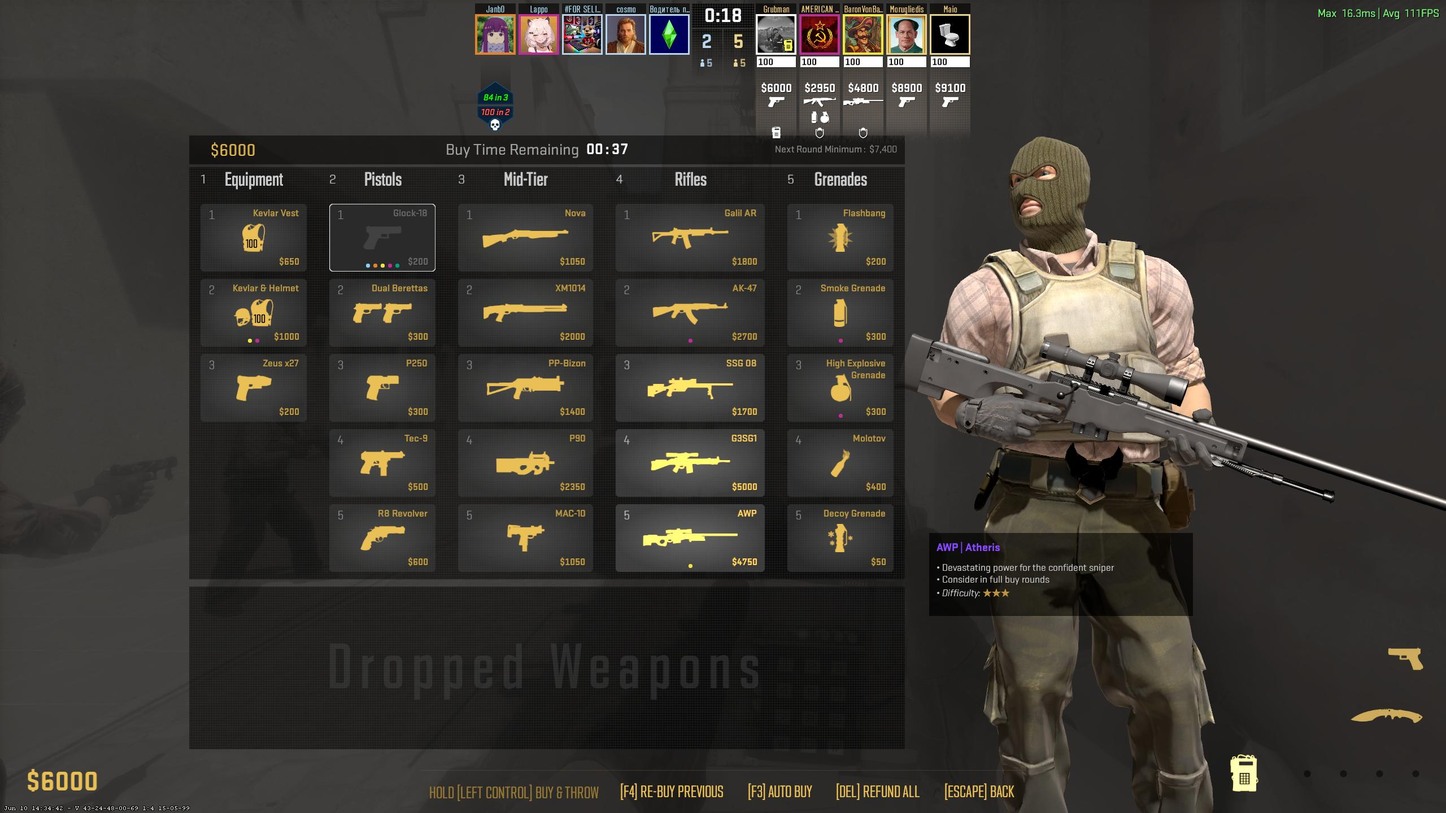Terrorist: (922, 135, 1218, 787)
